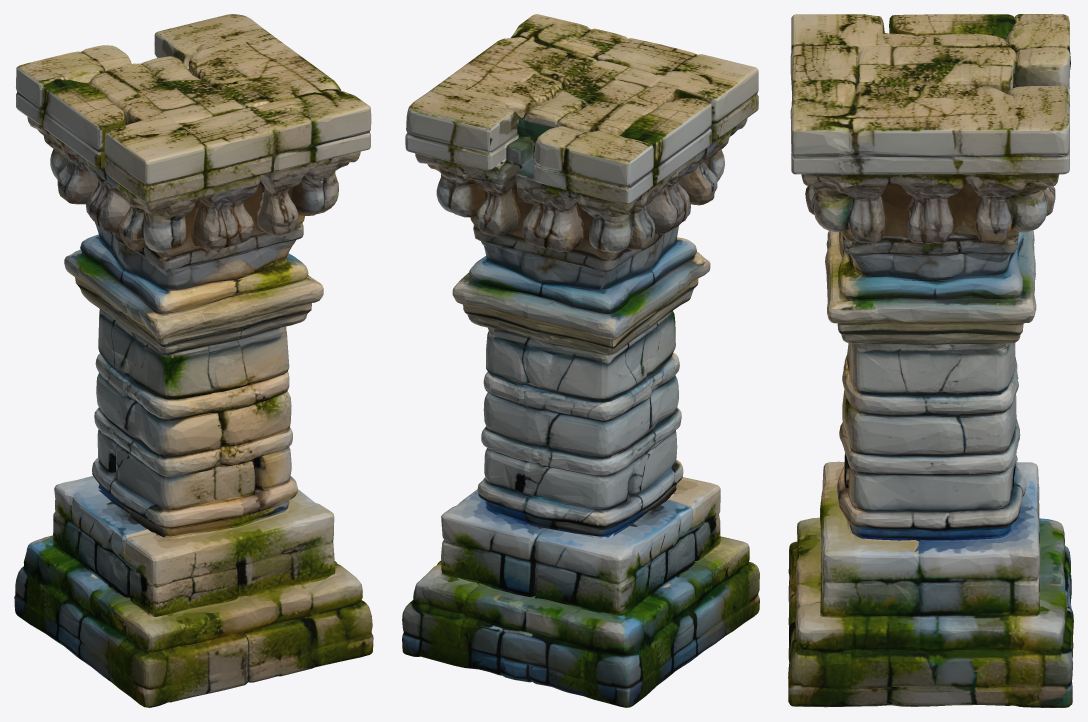
The model's file is kadamba-stepped-corner-pillar-optimized.glb.
The picture shows the model from 3 angles, left to right: view 1: azimuth 30°, elevation 25°; view 2: azimuth 150°, elevation 25°; view 3: azimuth 270°, elevation 25°; orthographic projection. The views are drawn at different scales.
Parts seen in each view (by area): view 1: 2ef9fb52-15b9-4766-8275-0aee4324bce8_texturing.obj; view 2: 2ef9fb52-15b9-4766-8275-0aee4324bce8_texturing.obj; view 3: 2ef9fb52-15b9-4766-8275-0aee4324bce8_texturing.obj.
Boxes of the visible parts, left/top/right/bottom form: 2ef9fb52-15b9-4766-8275-0aee4324bce8_texturing.obj: left=14, top=14, right=373, bottom=707; 2ef9fb52-15b9-4766-8275-0aee4324bce8_texturing.obj: left=402, top=14, right=759, bottom=707; 2ef9fb52-15b9-4766-8275-0aee4324bce8_texturing.obj: left=788, top=14, right=1073, bottom=707.
Bounding box in the file's own units: 1.77 × 4 × 1.78.
1 material, 1 textured.
